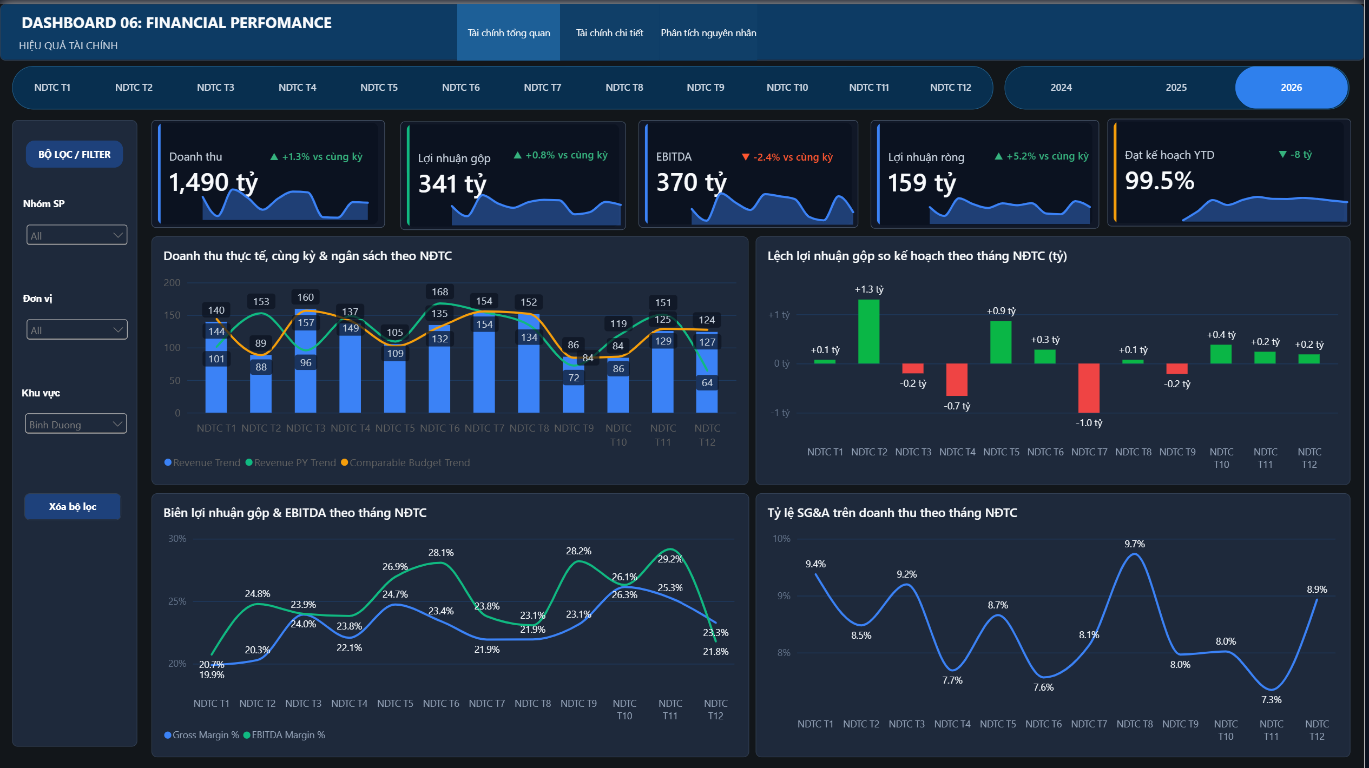

The dashboard page shown, as its layout file describes it:
{"tool":"powerbi","page":{"name":"Tài chính - Tổng quan","canvas":[1920,1080],"ordinal":0},"visuals":[{"type":"shape","box":[0,0,1920,80],"z":0},{"type":"lineChart","title":"Biên lợi nhuận gộp & EBITDA theo tháng NĐTC","fields":{"Category":["Dim_Date.FiscalMonthName"],"Y":["_Measure_Finance.Gross Margin %","_Measure_Finance.EBITDA Margin %"]},"box":[213.3,688.3,841.7,371.7],"z":1000},{"type":"lineChart","title":"Tỷ lệ SG&A trên doanh thu theo tháng NĐTC","fields":{"Category":["Dim_Date.FiscalMonthName"],"Y":["_Measure_Finance.SG&A Ratio %"]},"box":[1063.3,688.3,836.7,371.7],"z":2000},{"type":"lineClusteredColumnComboChart","title":"Doanh thu thực tế, cùng kỳ & ngân sách theo NĐTC","fields":{"Category":["Dim_Date.FiscalMonthName"],"Y":["_Measure_Finance.Revenue Trend"],"Y2":["_Measure_Finance.Revenue PY Trend","_Measure_Finance.Comparable Budget Trend"]},"box":[212.5,326.7,840.8,350],"z":3000},{"type":"cardVisual","fields":{"Data":["_Measure_Finance.Total Revenue"]},"box":[212.9,164.3,328.6,151.4],"z":4000},{"type":"cardVisual","fields":{"Data":["_Measure_Finance.Gross Profit"]},"box":[562.9,165.7,317.1,152.9],"z":5000},{"type":"cardVisual","fields":{"Data":["_Measure_Finance.EBITDA"]},"box":[898.6,164.3,310,151.4],"z":6000},{"type":"cardVisual","fields":{"Data":["_Measure_Finance.Net Profit"]},"box":[1225.7,162.9,321.4,152.9],"z":7000},{"type":"cardVisual","fields":{"Data":["_Measure_Finance.YTD Budget Achievement %"]},"box":[1558.6,161.4,342.9,151.4],"z":8000},{"type":"lineChart","title":"BiÃªn lá»£i nhuáºín gá»™p & EBITDA theo thÃ¡ng","fields":{"Category":["Dim_Date.FiscalMonthName"],"Y":["_Measure_Finance.Total Revenue"]},"box":[260,238.8,281.2,82.5],"z":9000},{"type":"lineChart","title":"BiÃªn lá»£i nhuáºín gá»™p & EBITDA theo thÃ¡ng","fields":{"Category":["Dim_Date.FiscalMonthName"],"Y":["_Measure_Finance.Gross Profit"]},"box":[611.4,242.9,287.1,84.3],"z":10000},{"type":"lineChart","title":"BiÃªn lá»£i nhuáºín gá»™p & EBITDA theo thÃ¡ng","fields":{"Category":["Dim_Date.FiscalMonthName"],"Y":["_Measure_Finance.EBITDA"]},"box":[950,240,275.7,87.1],"z":11000},{"type":"lineChart","title":"BiÃªn lá»£i nhuáºín gá»™p & EBITDA theo thÃ¡ng","fields":{"Category":["Dim_Date.FiscalMonthName"],"Y":["_Measure_Finance.Net Profit"]},"box":[1284.3,244.3,273.8,82.5],"z":12000},{"type":"lineChart","title":"BiÃªn lá»£i nhuáºín gá»™p & EBITDA theo thÃ¡ng","fields":{"Category":["Dim_Date.FiscalMonthName"],"Y":["_Measure_Finance.YTD Budget Achievement %"]},"box":[1640,240,280,82.9],"z":13000},{"type":"textbox","box":[31.2,10.9,465,76],"z":15000},{"type":"shape","box":[643.3,0,145.7,80],"z":16000},{"type":"shape","box":[788.3,0,140,80],"z":17000},{"type":"cardVisual","fields":{"Data":["_Measure_Finance.Revenue YoY Growth %"]},"box":[364.3,191.4,256.4,43.6],"z":18000},{"type":"cardVisual","fields":{"Data":["_Measure_Finance.Gross Profit YoY %"]},"box":[705.7,190,223.3,43.6],"z":19000},{"type":"clusteredColumnChart","title":"Lệch lợi nhuận gộp so kế hoạch theo tháng NĐTC (tỷ)","fields":{"Category":["Dim_Date.FiscalMonthName"],"Y":["_Measure_Finance.Gross Profit Budget Variance"]},"box":[1063.3,326.7,836.7,350],"z":20000},{"type":"cardVisual","fields":{"Data":["_Measure_Finance.EBITDA YoY %"]},"box":[1028.6,191.4,197.1,44.3],"z":21000},{"type":"textbox","box":[26.5,48.3,465,34],"z":22000},{"type":"cardVisual","fields":{"Data":["_Measure_Finance.Net Profit YoY %"]},"box":[1384.3,190,185,45],"z":23000},{"type":"cardVisual","fields":{"Data":["_Measure_Finance.YTD Budget Variance"]},"box":[1782.9,188.6,111.7,45],"z":24000},{"type":"advancedSlicerVisual","fields":{"Values":["Dim_Date.FiscalMonthName"]},"box":[18,87,1381.4,61],"z":25000},{"type":"advancedSlicerVisual","fields":{"Values":["Dim_Date.FiscalYear"]},"box":[1415,87,485,61],"z":26000},{"type":"shape","box":[928.3,0,137.3,80],"z":27000},{"type":"shape","box":[18,164,176,882],"z":28000},{"type":"slicer","title":"Nhóm SP","fields":{"Values":["Dim_ProductCategory.ProductGroup"]},"box":[31.4,272.9,151.7,80],"z":29000},{"type":"slicer","title":"Đơn vị","fields":{"Values":["Dim_BusinessUnit.BU_Name"]},"box":[31.4,405.7,152,80],"z":30000},{"type":"slicer","title":"Khu vực","fields":{"Values":["Dim_Region.RegionName"]},"box":[30.8,540,153.1,80],"z":31000},{"type":"shape","box":[35.7,192.9,137.1,38.6],"z":32000},{"type":"actionButton","box":[35,688.3,136.4,38.2],"z":33000}]}

Visuals, with their boxes in screenshot pixels (x1, y1, x2, y2), scaled from the page's 1920x1080 canvas onto the 1369x768 screenshot:
shape: Rect(0, 0, 1368, 57)
"Biên lợi nhuận gộp & EBITDA theo tháng NĐTC" lineChart: Rect(152, 489, 752, 754)
"Tỷ lệ SG&A trên doanh thu theo tháng NĐTC" lineChart: Rect(758, 489, 1355, 754)
"Doanh thu thực tế, cùng kỳ & ngân sách theo NĐTC" lineClusteredColumnComboChart: Rect(152, 232, 751, 481)
cardVisual - _Measure_Finance.Total Revenue: Rect(152, 117, 386, 224)
cardVisual - _Measure_Finance.Gross Profit: Rect(401, 118, 627, 227)
cardVisual - _Measure_Finance.EBITDA: Rect(641, 117, 862, 224)
cardVisual - _Measure_Finance.Net Profit: Rect(874, 116, 1103, 225)
cardVisual - _Measure_Finance.YTD Budget Achievement %: Rect(1111, 115, 1356, 222)
"BiÃªn lá»£i nhuáºín gá»™p & EBITDA theo thÃ¡ng" lineChart: Rect(185, 170, 386, 228)
"BiÃªn lá»£i nhuáºín gá»™p & EBITDA theo thÃ¡ng" lineChart: Rect(436, 173, 641, 233)
"BiÃªn lá»£i nhuáºín gá»™p & EBITDA theo thÃ¡ng" lineChart: Rect(677, 171, 874, 233)
"BiÃªn lá»£i nhuáºín gá»™p & EBITDA theo thÃ¡ng" lineChart: Rect(916, 174, 1111, 232)
"BiÃªn lá»£i nhuáºín gá»™p & EBITDA theo thÃ¡ng" lineChart: Rect(1169, 171, 1368, 230)
textbox: Rect(22, 8, 354, 62)
shape: Rect(459, 0, 563, 57)
shape: Rect(562, 0, 662, 57)
cardVisual - _Measure_Finance.Revenue YoY Growth %: Rect(260, 136, 443, 167)
cardVisual - _Measure_Finance.Gross Profit YoY %: Rect(503, 135, 662, 166)
"Lệch lợi nhuận gộp so kế hoạch theo tháng NĐTC (tỷ)" clusteredColumnChart: Rect(758, 232, 1355, 481)
cardVisual - _Measure_Finance.EBITDA YoY %: Rect(733, 136, 874, 168)
textbox: Rect(19, 34, 350, 59)
cardVisual - _Measure_Finance.Net Profit YoY %: Rect(987, 135, 1119, 167)
cardVisual - _Measure_Finance.YTD Budget Variance: Rect(1271, 134, 1351, 166)
advancedSlicerVisual - Dim_Date.FiscalMonthName: Rect(13, 62, 998, 105)
advancedSlicerVisual - Dim_Date.FiscalYear: Rect(1009, 62, 1355, 105)
shape: Rect(662, 0, 760, 57)
shape: Rect(13, 117, 138, 744)
"Nhóm SP" slicer: Rect(22, 194, 131, 251)
"Đơn vị" slicer: Rect(22, 288, 131, 345)
"Khu vực" slicer: Rect(22, 384, 131, 441)
shape: Rect(25, 137, 123, 165)
actionButton: Rect(25, 489, 122, 517)
